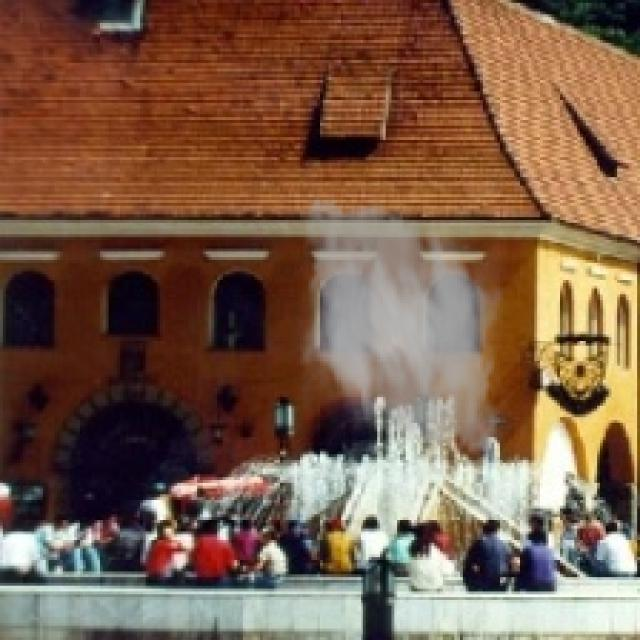Smoke: (289, 185, 520, 466)
